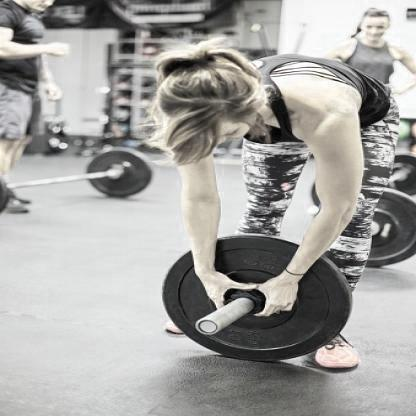Barbell: (186, 313, 222, 341)
